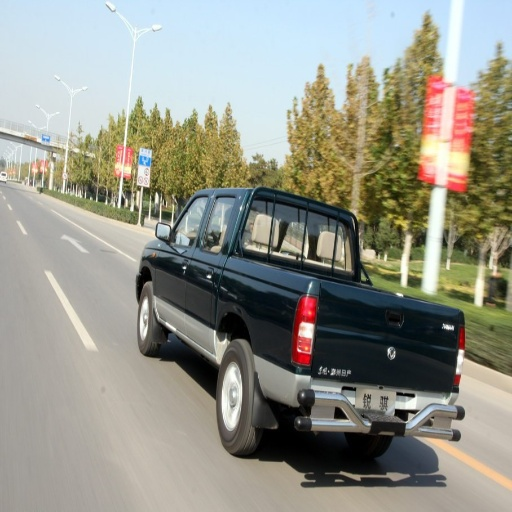trunk: (205, 260, 451, 415)
